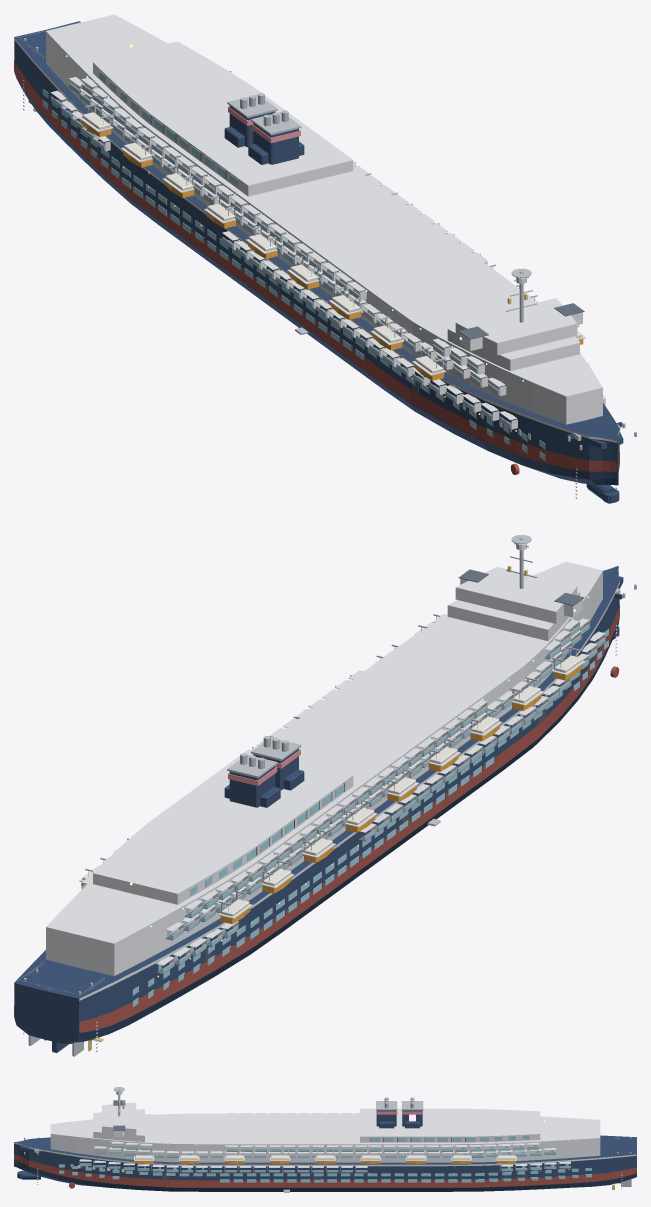
Rendered from ship-exterior.glb.
3 views of the same model, one above another, from view 1: azimuth 30°, elevation 25°; view 2: azimuth 150°, elevation 25°; view 3: azimuth 270°, elevation 25° (orthographic). The views are drawn at different scales.
Visible parts, largest first — view 1: CM_STRUCTURE_BULKHEAD, CM_STRUCTURE_HULL, CM_DRESSING_BULKHEAD, CM_DRESSING_GLASS, CM_STRUCTURE_BOOT, CM_DRESSING_STEEL, CM_DRESSING_CANVAS, CM_DRESSING_HULL, CM_DRESSING_DECK, CM_DRESSING_ORANGE, CM_DRESSING_TRIM; view 2: CM_STRUCTURE_BULKHEAD, CM_STRUCTURE_HULL, CM_DRESSING_BULKHEAD, CM_DRESSING_GLASS, CM_STRUCTURE_BOOT, CM_DRESSING_STEEL, CM_DRESSING_CANVAS, CM_DRESSING_DECK, CM_DRESSING_HULL, CM_DRESSING_ORANGE, CM_DRESSING_TRIM; view 3: CM_STRUCTURE_BULKHEAD, CM_STRUCTURE_HULL, CM_DRESSING_GLASS, CM_STRUCTURE_BOOT, CM_DRESSING_BULKHEAD, CM_DRESSING_STEEL, CM_DRESSING_CANVAS, CM_DRESSING_DECK, CM_DRESSING_HULL, CM_DRESSING_ORANGE, CM_DRESSING_TRIM.
Boxes of the visible parts, box(x1,y1,x2,y2) form: CM_STRUCTURE_BULKHEAD: box(14, 14, 619, 442); CM_STRUCTURE_HULL: box(14, 21, 623, 503); CM_DRESSING_BULKHEAD: box(23, 77, 617, 498); CM_DRESSING_GLASS: box(42, 71, 544, 460); CM_STRUCTURE_BOOT: box(14, 61, 619, 474); CM_DRESSING_STEEL: box(24, 38, 636, 450); CM_DRESSING_CANVAS: box(82, 112, 582, 373); CM_DRESSING_HULL: box(224, 106, 304, 164); CM_DRESSING_DECK: box(51, 85, 511, 428); CM_DRESSING_ORANGE: box(81, 120, 583, 380); CM_DRESSING_TRIM: box(89, 116, 545, 461); CM_STRUCTURE_BULKHEAD: box(14, 561, 619, 1000); CM_STRUCTURE_HULL: box(14, 566, 623, 1052); CM_DRESSING_BULKHEAD: box(23, 543, 617, 1051); CM_DRESSING_GLASS: box(81, 625, 608, 1006); CM_STRUCTURE_BOOT: box(14, 605, 619, 1032); CM_DRESSING_STEEL: box(24, 535, 636, 993); CM_DRESSING_CANVAS: box(82, 621, 582, 916); CM_DRESSING_DECK: box(156, 627, 604, 974); CM_DRESSING_HULL: box(224, 748, 304, 807); CM_DRESSING_ORANGE: box(81, 664, 583, 923); CM_DRESSING_TRIM: box(205, 628, 609, 962); CM_STRUCTURE_BULKHEAD: box(14, 1102, 636, 1166); CM_STRUCTURE_HULL: box(14, 1135, 636, 1191); CM_DRESSING_GLASS: box(59, 1135, 591, 1182); CM_STRUCTURE_BOOT: box(14, 1154, 636, 1188); CM_DRESSING_BULKHEAD: box(37, 1091, 622, 1189); CM_DRESSING_STEEL: box(24, 1087, 631, 1170); CM_DRESSING_CANVAS: box(135, 1155, 515, 1159); CM_DRESSING_DECK: box(80, 1146, 570, 1172); CM_DRESSING_HULL: box(376, 1110, 422, 1128); CM_DRESSING_ORANGE: box(134, 1161, 516, 1163); CM_DRESSING_TRIM: box(58, 1137, 527, 1182).
Size of the model in its own units: 45.4 by 50.5 by 290.
